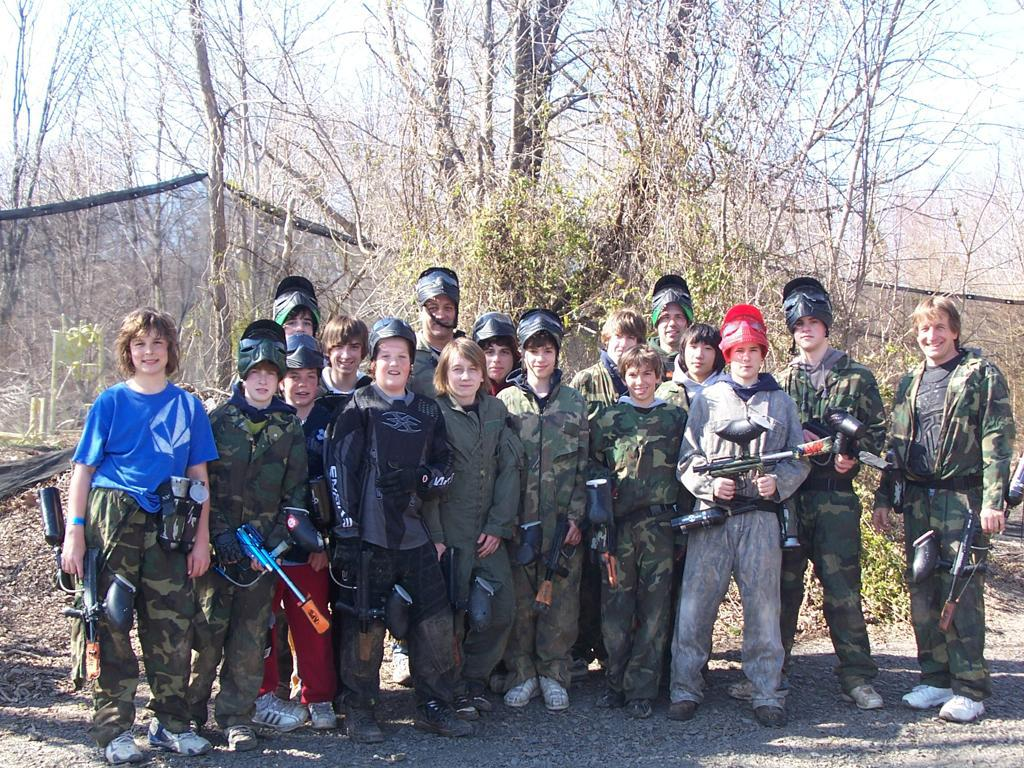face: (131, 330, 168, 374), (377, 339, 410, 387), (448, 353, 483, 397), (919, 316, 953, 358), (425, 297, 456, 338), (282, 310, 315, 348), (285, 370, 318, 406), (658, 305, 688, 344), (331, 338, 362, 374), (626, 364, 655, 400), (484, 345, 513, 380), (525, 345, 556, 377), (795, 316, 825, 349), (732, 345, 762, 378), (686, 342, 716, 375), (247, 369, 278, 400), (608, 333, 638, 361)
